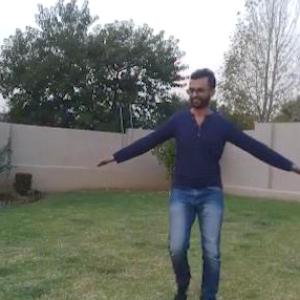land: (67, 41, 299, 299)
